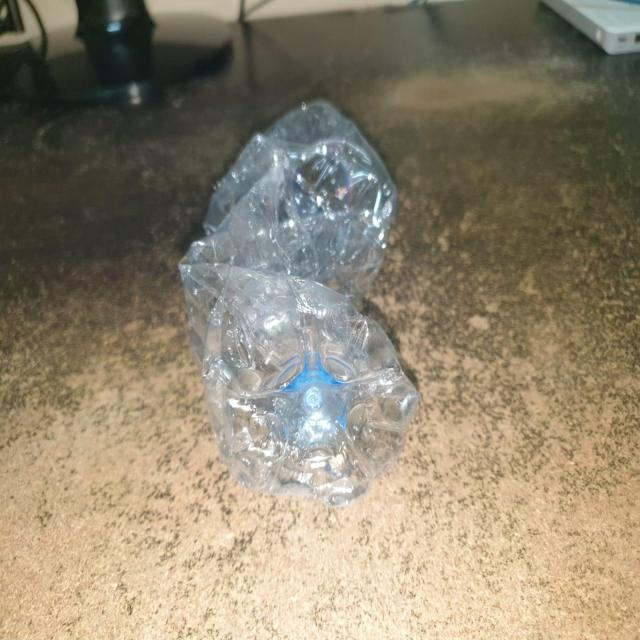bottle: (178, 96, 420, 512)
